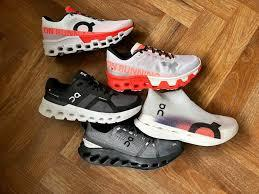OC_logo: (183, 114, 226, 143), (149, 55, 184, 78), (69, 16, 101, 37), (152, 98, 173, 125), (65, 85, 90, 107), (118, 131, 141, 153)
